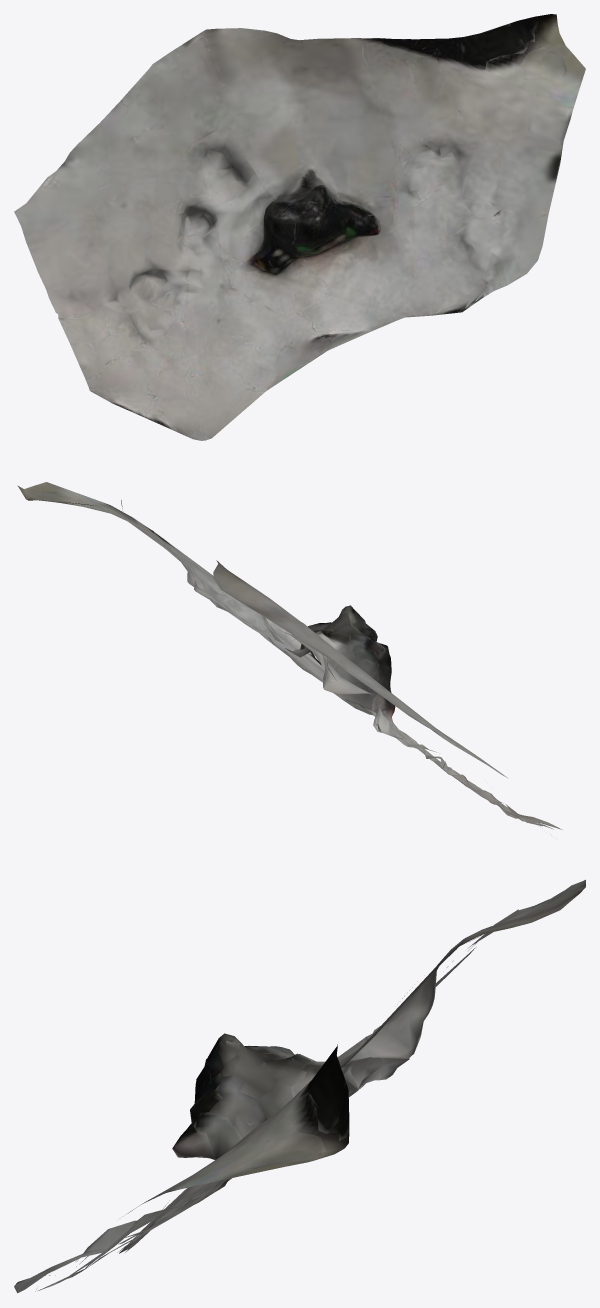
Rendered from hall.glb.
3 views of the same model, one above another, from view 1: azimuth 30°, elevation 25°; view 2: azimuth 150°, elevation 25°; view 3: azimuth 270°, elevation 25° (orthographic). The views are drawn at different scales.
Size of the model in its own units: 2.18 by 1.18 by 1.28.
Materials: 1 (1 with a texture image).
